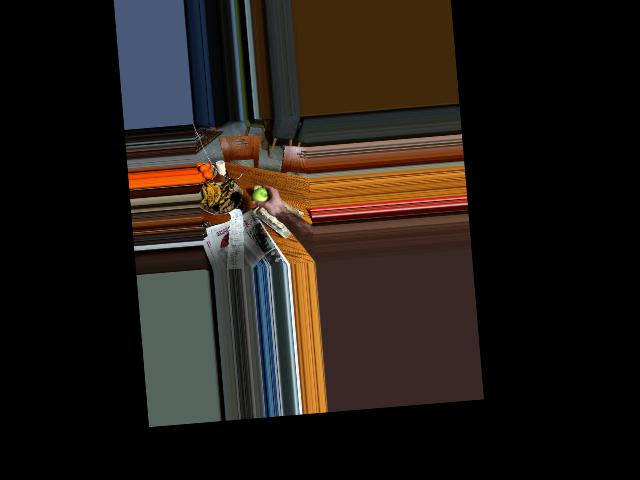apple: (251, 186, 272, 206)
